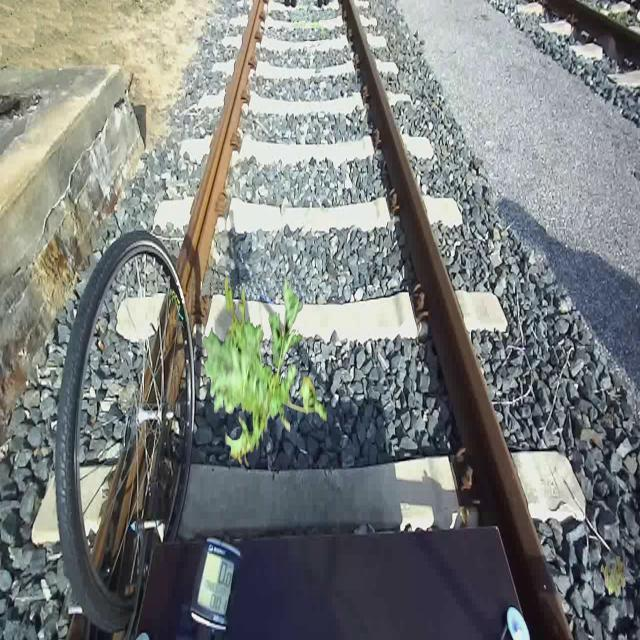Plant: (202, 272, 327, 468), (601, 555, 627, 598)
